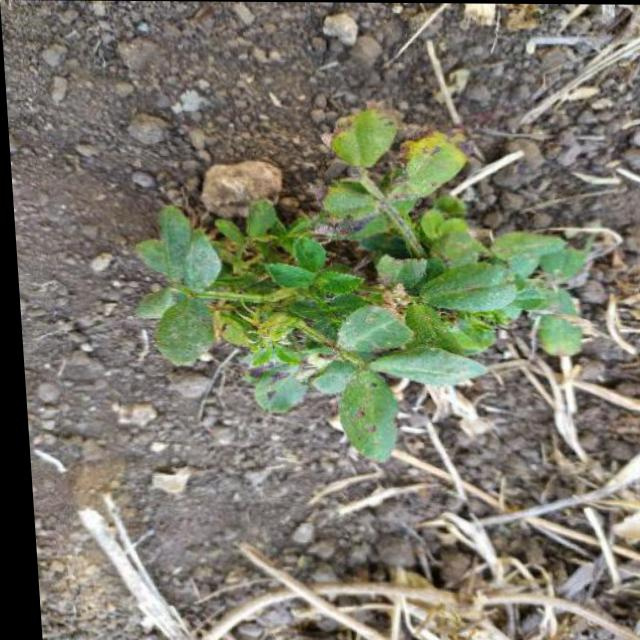weed: (102, 107, 628, 450)
